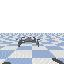drone: (16, 37, 40, 47)
